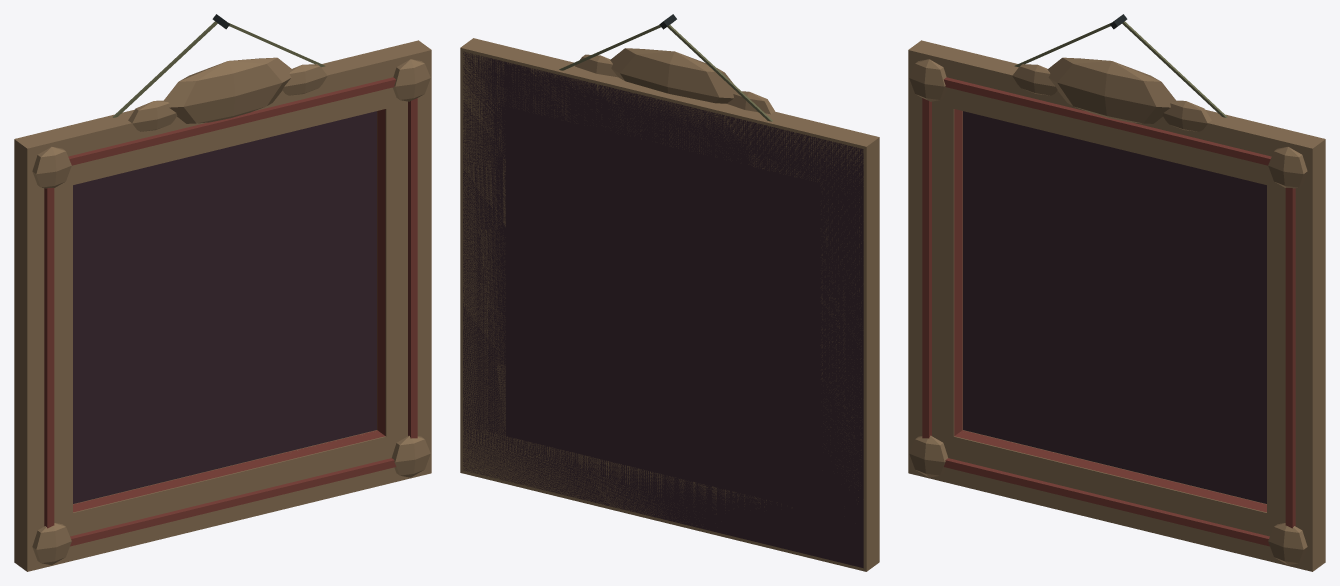
The model's file is rama_aurie.glb.
3 views of the same model, side by side, from view 1: azimuth 30°, elevation 25°; view 2: azimuth 150°, elevation 25°; view 3: azimuth 330°, elevation 25° (orthographic).
Visible parts, largest first — view 1: RamaAurie; view 2: RamaAurie; view 3: RamaAurie.
Part boxes in pixels (x1,y1,x2,y2): RamaAurie: [14, 14, 431, 571]; RamaAurie: [460, 14, 879, 571]; RamaAurie: [908, 14, 1325, 571].
Size of the model in its own units: 0.71 by 0.837 by 0.0594.
